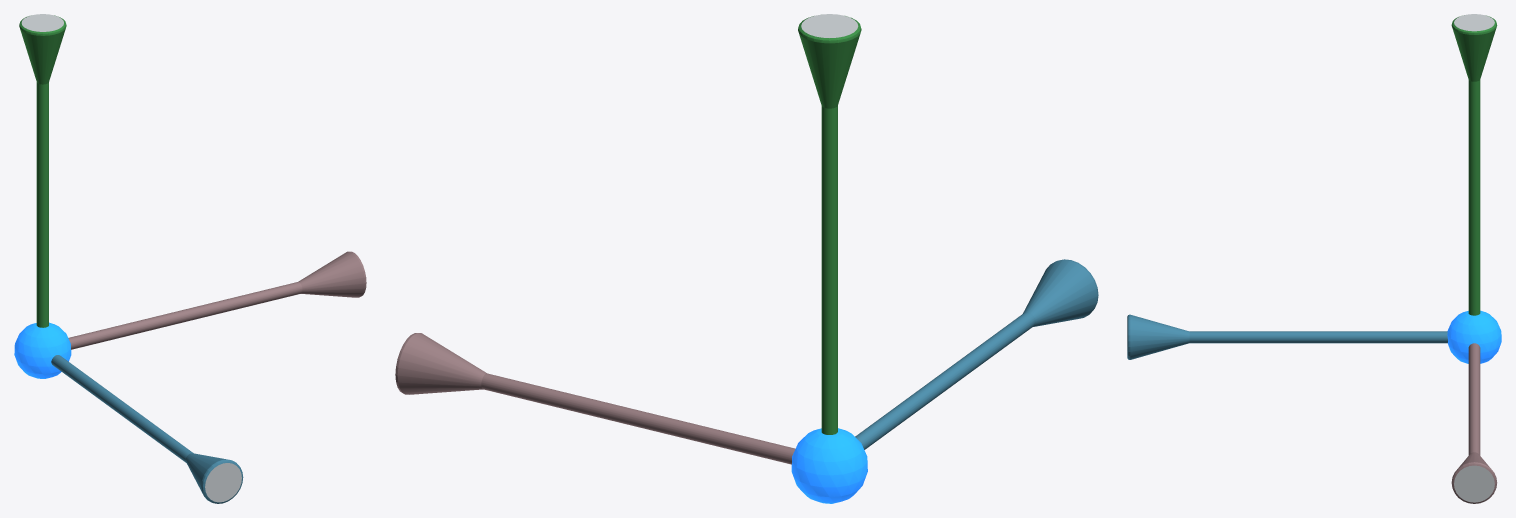
The model's file is transform-gizmo-eed249.glb.
3 renders of one model, left to right at view 1: azimuth 30°, elevation 25°; view 2: azimuth 150°, elevation 25°; view 3: azimuth 270°, elevation 25°, orthographic. The views are drawn at different scales.
Parts seen in each view (by area): view 1: gizmo, glow, tip-z; view 2: gizmo, glow, tip-z; view 3: gizmo, glow, tip-z.
Boxes of the visible parts, x1,y1,x2,y2 form: gizmo: (19, 14, 366, 462); glow: (14, 322, 71, 378); tip-z: (185, 453, 243, 503); gizmo: (395, 14, 1035, 464); glow: (791, 428, 867, 503); tip-z: (1023, 259, 1098, 326); gizmo: (1189, 14, 1497, 503); glow: (1447, 310, 1501, 363); tip-z: (1127, 314, 1189, 359).
Size of the model in its own units: 1.08 by 1.08 by 1.08.
